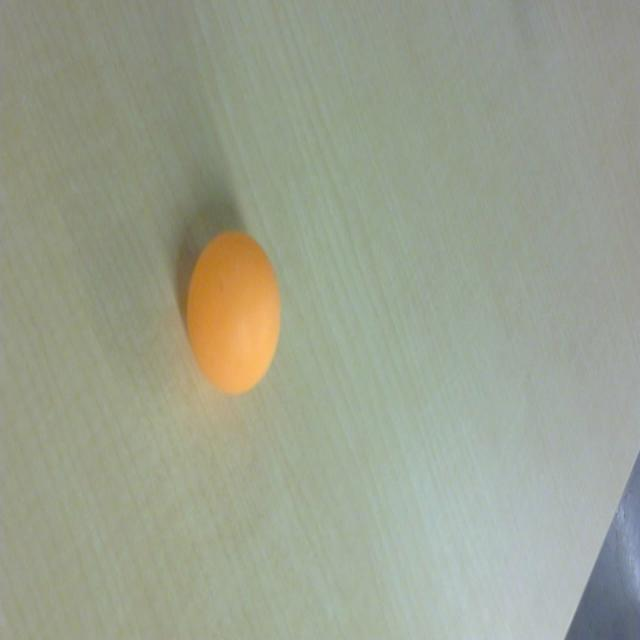ball: (186, 228, 282, 400)
